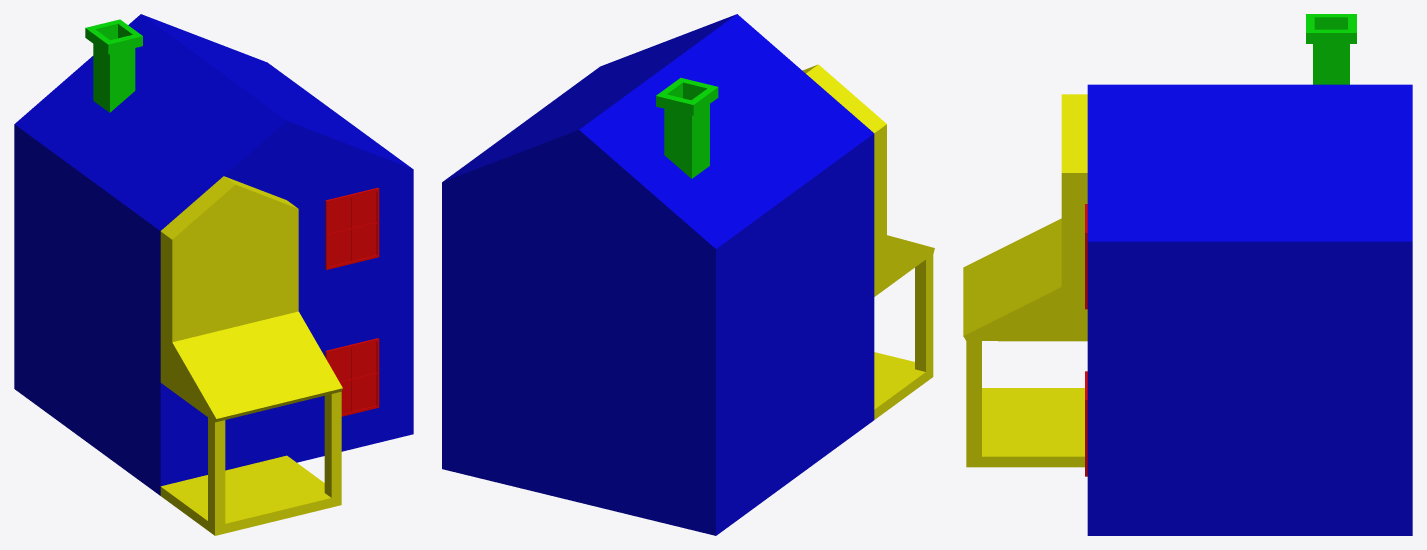
Rendered from SuburbanResidential1.fbx.
The picture shows the model from 3 angles, left to right: view 1: azimuth 30°, elevation 25°; view 2: azimuth 150°, elevation 25°; view 3: azimuth 270°, elevation 25°; orthographic projection. The views are drawn at different scales.
Parts seen in each view (by area): view 1: SuburbanResidential1, Window1, Window2; view 2: SuburbanResidential1; view 3: SuburbanResidential1.
Boxes of the visible parts, x1,y1,x2,y2 form: SuburbanResidential1: (14,14,413,535); Window1: (325,187,379,269); Window2: (325,338,379,416); SuburbanResidential1: (442,14,934,535); SuburbanResidential1: (963,14,1412,535).
Size of the model in its own units: 8 by 11.13 by 11.06.
